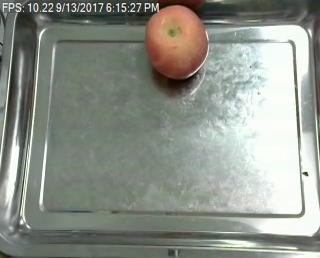apple: (147, 6, 210, 80)
